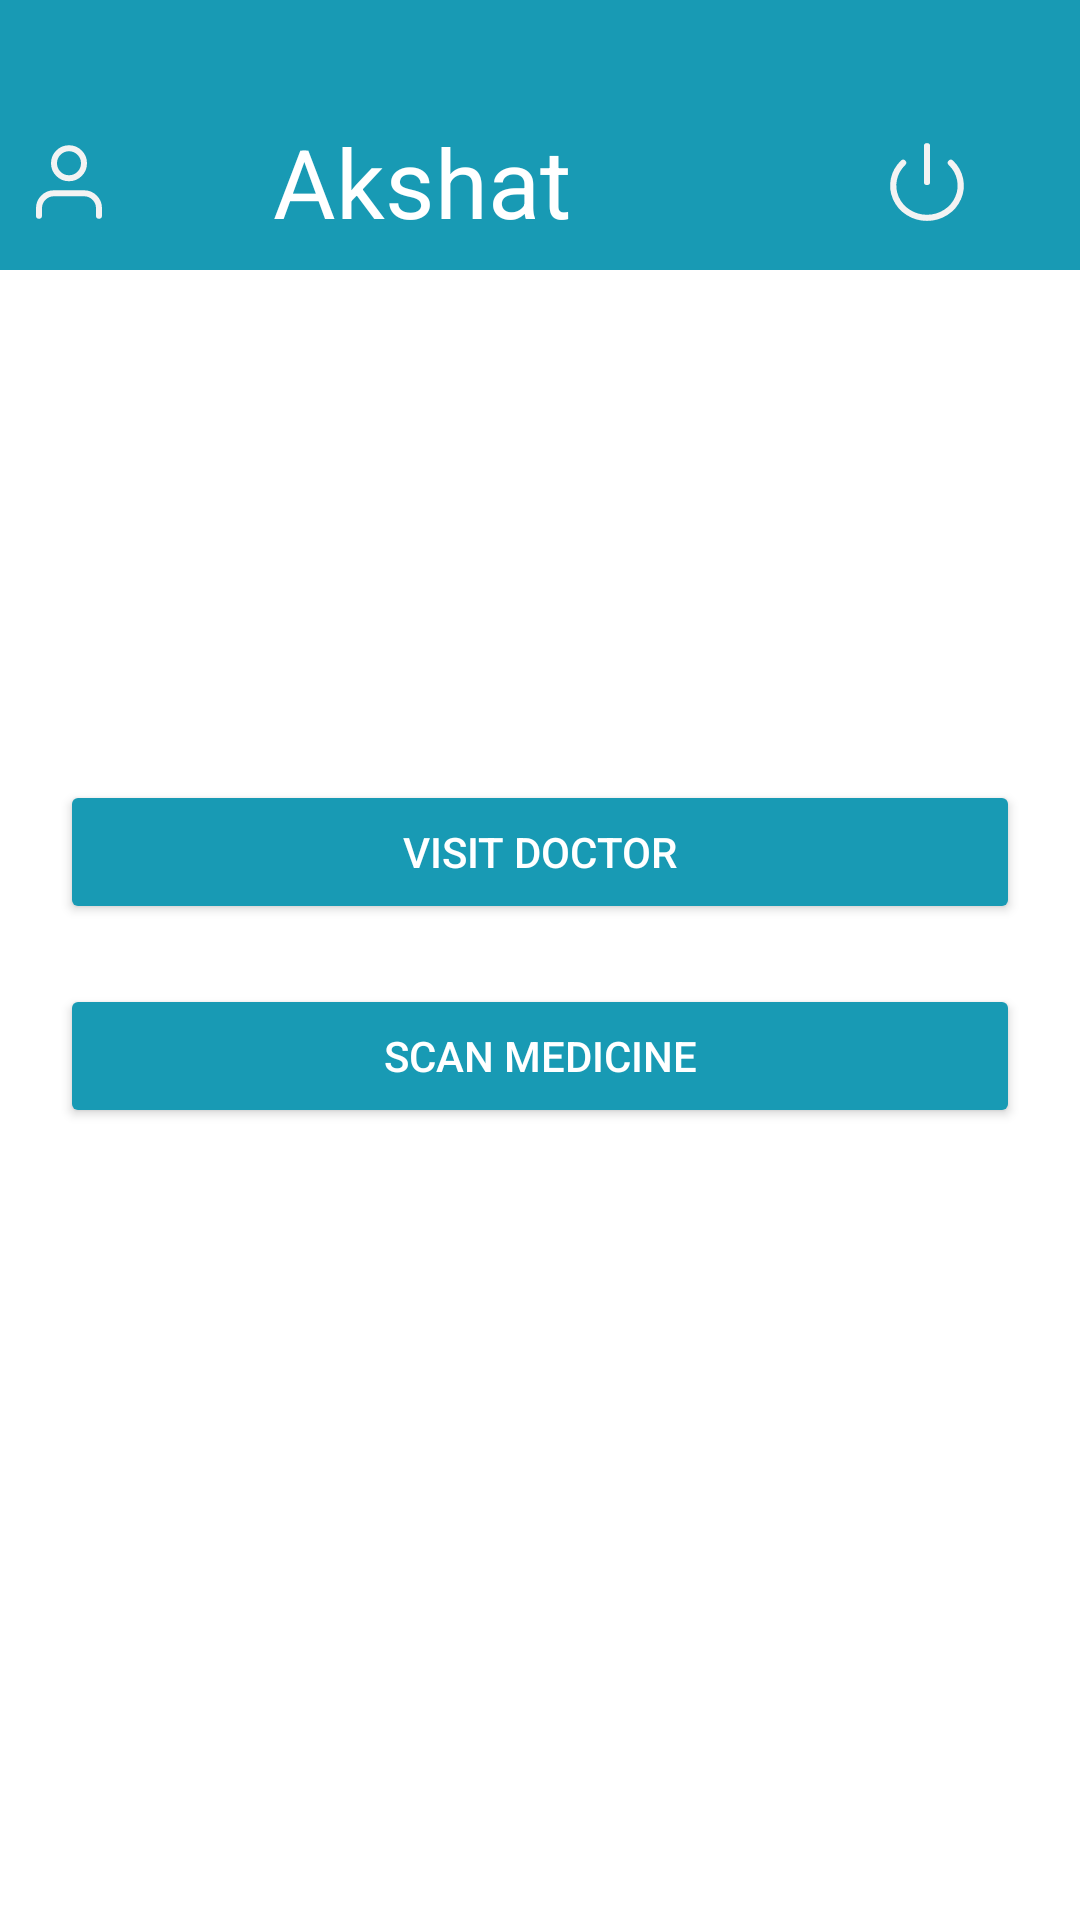

Named icons in this screenshot (1080w x 1920h) and their bounding boxes, [x1,y1,x2,y2]:
power: [890,143,964,221]
user: [36,145,102,219]
